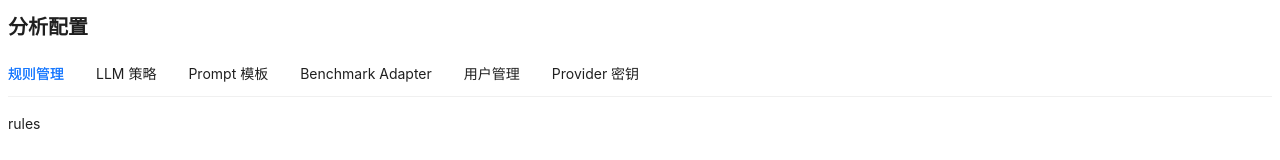
Scenario: Config page › switches tabs
What coordinates should you click on to do the following:
click the tab "LLM 策略"
I would click on:
 (126, 74)
Its box is 96,63 -> 156,85.
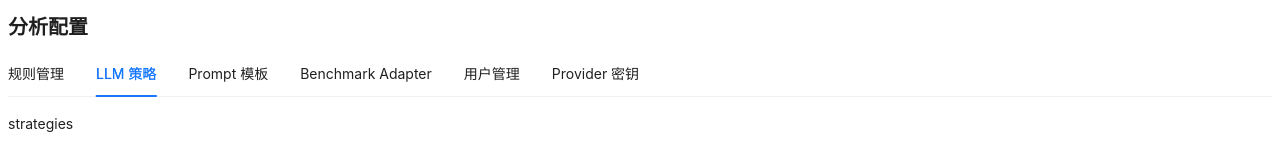
Now the text "strategies" is shown, box 8,115 -> 73,132
